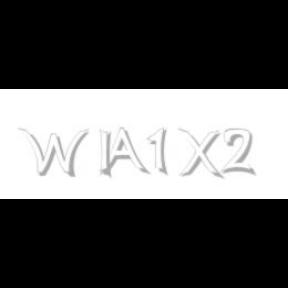1: (146, 128, 168, 176)
2: (220, 128, 254, 176)
A: (99, 128, 147, 176)
W: (17, 128, 89, 178)
X: (177, 128, 221, 180)
l: (99, 128, 115, 180)
